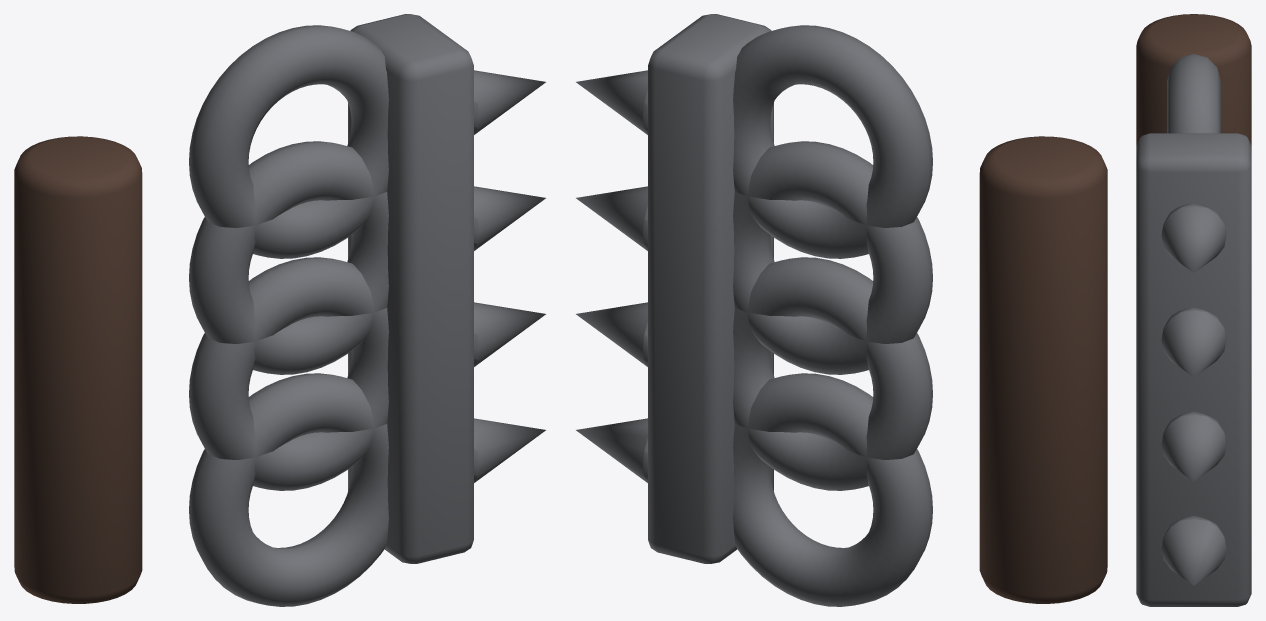
The model's file is fist_3.glb.
The picture shows the model from 3 angles, left to right: view 1: azimuth 30°, elevation 25°; view 2: azimuth 150°, elevation 25°; view 3: azimuth 270°, elevation 25°; orthographic projection. The views are drawn at different scales.
Visible parts, largest first — view 1: fist_3; view 2: fist_3; view 3: fist_3.
Part boxes in pixels (left/top/right/bottom): fist_3: left=14, top=14, right=545, bottom=606; fist_3: left=576, top=14, right=1107, bottom=606; fist_3: left=1136, top=14, right=1251, bottom=606.
Bounding box in the file's own units: 0.2106 × 0.22 × 0.0446.
